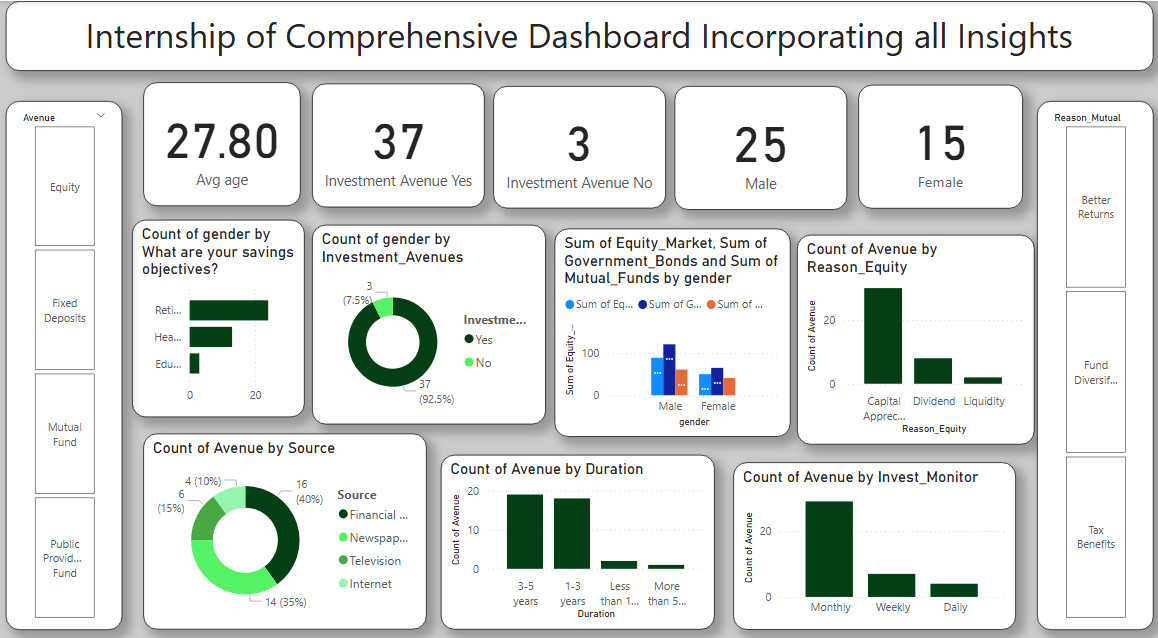

What the dashboard file says about the page in this screenshot:
{"tool":"powerbi","page":{"name":"Page 1","canvas":[1280,720],"ordinal":0},"visuals":[{"type":"textbox","box":[9.6,0,1259.7,76.8],"z":0},{"type":"card","fields":{"Values":["Data_set 2_Power-BI_Internship.Avg age"]},"box":[160.5,89.2,172.9,135.8],"z":1},{"type":"card","fields":{"Values":["Data_set 2_Power-BI_Internship.Investment Avenue Yes"]},"box":[345.8,90.6,189.4,135.8],"z":2},{"type":"clusteredBarChart","fields":{"Category":["Data_set 2_Power-BI_Internship.What are your savings objectives?"],"Y":["CountNonNull(Data_set 2_Power-BI_Internship.gender)"]},"box":[148.2,240.1,189.4,216.8],"z":3},{"type":"donutChart","fields":{"Category":["Data_set 2_Power-BI_Internship.Investment_Avenues"],"Y":["CountNonNull(Data_set 2_Power-BI_Internship.gender)"]},"box":[345.8,245.6,256.6,219.6],"z":4},{"type":"card","fields":{"Values":["Data_set 2_Power-BI_Internship.Investment Avenue No"]},"box":[544.8,93.3,189.4,134.5],"z":5},{"type":"clusteredColumnChart","fields":{"Category":["Data_set 2_Power-BI_Internship.gender"],"Y":["Sum(Data_set 2_Power-BI_Internship.Equity_Market)","Sum(Data_set 2_Power-BI_Internship.Government_Bonds)","Sum(Data_set 2_Power-BI_Internship.Mutual_Funds)"]},"box":[612,249.7,259.3,229.2],"z":6},{"type":"clusteredColumnChart","fields":{"Y":["CountNonNull(Data_set 2_Power-BI_Internship.Avenue)"],"Category":["Data_set 2_Power-BI_Internship.Reason_Equity"]},"box":[878.2,256.6,260.7,230.5],"z":7},{"type":"clusteredColumnChart","fields":{"Y":["CountNonNull(Data_set 2_Power-BI_Internship.Avenue)"],"Category":["Data_set 2_Power-BI_Internship.Duration"]},"box":[487.1,498.1,300.5,192.1],"z":8},{"type":"clusteredColumnChart","fields":{"Y":["CountNonNull(Data_set 2_Power-BI_Internship.Avenue)"],"Category":["Data_set 2_Power-BI_Internship.Invest_Monitor"]},"box":[808.2,506.3,310.1,183.9],"z":9},{"type":"card","fields":{"Values":["Data_set 2_Power-BI_Internship.Male"]},"box":[743.7,93.3,189.4,135.8],"z":10},{"type":"card","fields":{"Values":["Data_set 2_Power-BI_Internship.Female"]},"box":[945.5,91.9,181.1,135.8],"z":11},{"type":"slicer","fields":{"Values":["Data_set 2_Power-BI_Internship.Reason_Mutual"]},"box":[1141.7,109.8,127.6,580.4],"z":12},{"type":"slicer","fields":{"Values":["Data_set 2_Power-BI_Internship.Avenue"]},"box":[9.6,109.8,127.6,580.4],"z":13},{"type":"donutChart","fields":{"Category":["Data_set 2_Power-BI_Internship.Source"],"Y":["CountNonNull(Data_set 2_Power-BI_Internship.Avenue)"]},"box":[160.5,474.8,311.5,215.4],"z":14}]}

Visuals, with their boxes in screenshot pixels (x1, y1, x2, y2), scaled from the page's 1280x720 canvas onto the 1158x638 screenshot:
textbox: detection(9, 0, 1148, 68)
card - Data_set 2_Power-BI_Internship.Avg age: detection(145, 79, 302, 199)
card - Data_set 2_Power-BI_Internship.Investment Avenue Yes: detection(313, 80, 484, 201)
clusteredBarChart - Data_set 2_Power-BI_Internship.What are your savings objectives? x CountNonNull(Data_set 2_Power-BI_Internship.gender): detection(134, 213, 305, 405)
donutChart - Data_set 2_Power-BI_Internship.Investment_Avenues x CountNonNull(Data_set 2_Power-BI_Internship.gender): detection(313, 218, 545, 412)
card - Data_set 2_Power-BI_Internship.Investment Avenue No: detection(493, 83, 664, 202)
clusteredColumnChart - Data_set 2_Power-BI_Internship.gender x Sum(Data_set 2_Power-BI_Internship.Equity_Market): detection(554, 221, 788, 424)
clusteredColumnChart - CountNonNull(Data_set 2_Power-BI_Internship.Avenue) x Data_set 2_Power-BI_Internship.Reason_Equity: detection(794, 227, 1030, 432)
clusteredColumnChart - CountNonNull(Data_set 2_Power-BI_Internship.Avenue) x Data_set 2_Power-BI_Internship.Duration: detection(441, 441, 713, 612)
clusteredColumnChart - CountNonNull(Data_set 2_Power-BI_Internship.Avenue) x Data_set 2_Power-BI_Internship.Invest_Monitor: detection(731, 449, 1012, 612)
card - Data_set 2_Power-BI_Internship.Male: detection(673, 83, 844, 203)
card - Data_set 2_Power-BI_Internship.Female: detection(855, 81, 1019, 202)
slicer - Data_set 2_Power-BI_Internship.Reason_Mutual: detection(1033, 97, 1148, 612)
slicer - Data_set 2_Power-BI_Internship.Avenue: detection(9, 97, 124, 612)
donutChart - Data_set 2_Power-BI_Internship.Source x CountNonNull(Data_set 2_Power-BI_Internship.Avenue): detection(145, 421, 427, 612)
